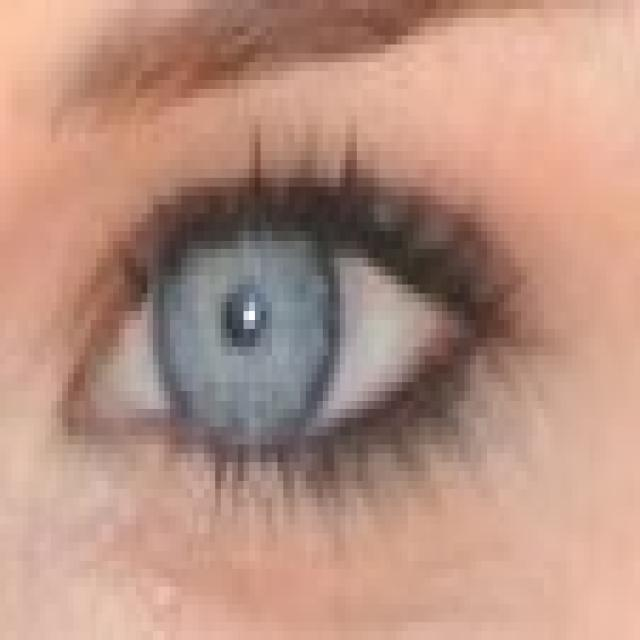Normal: (32, 127, 614, 490)
